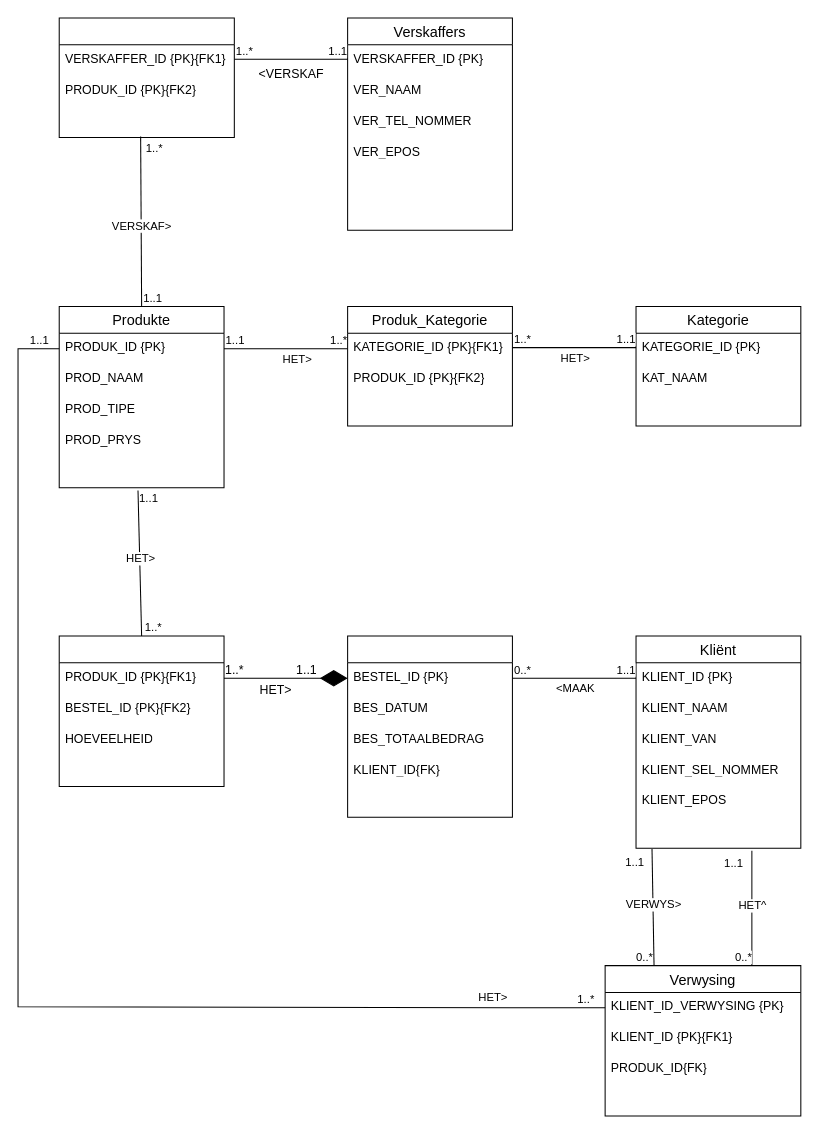
The diagram is 819 pixels wide and 1134 high, and some of its shapes have lost their labels. The shapes that lost their labels are listed below. From the top down, each one's box as (x1, y1, x2, y2) in pixels, then its label:
(58, 17, 234, 138): Produk_Verskaffer
(58, 635, 224, 786): Bestelitems
(347, 635, 512, 817): Bestelling
